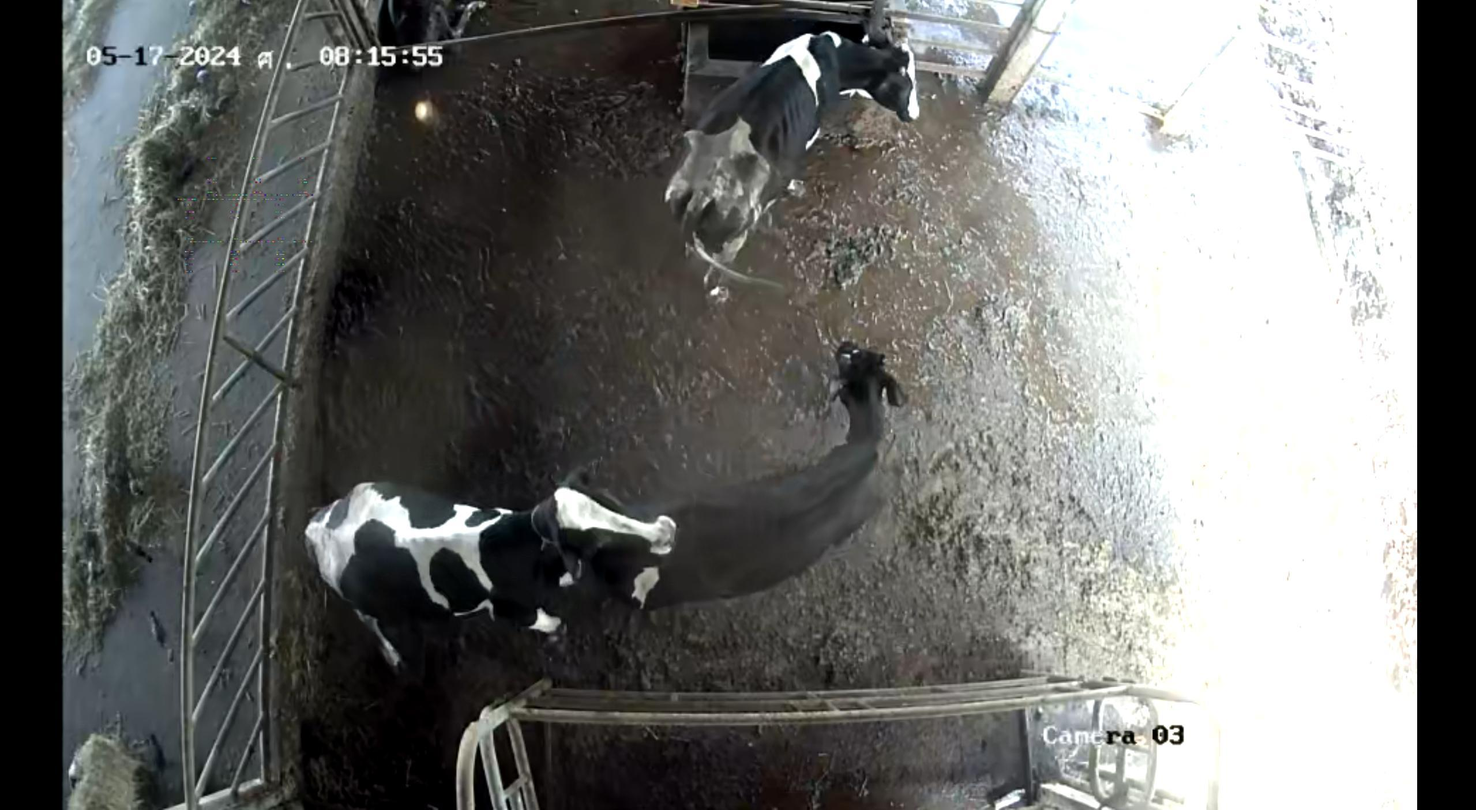ride: (292, 465, 677, 671)
stand: (604, 314, 916, 642), (651, 30, 946, 300)
